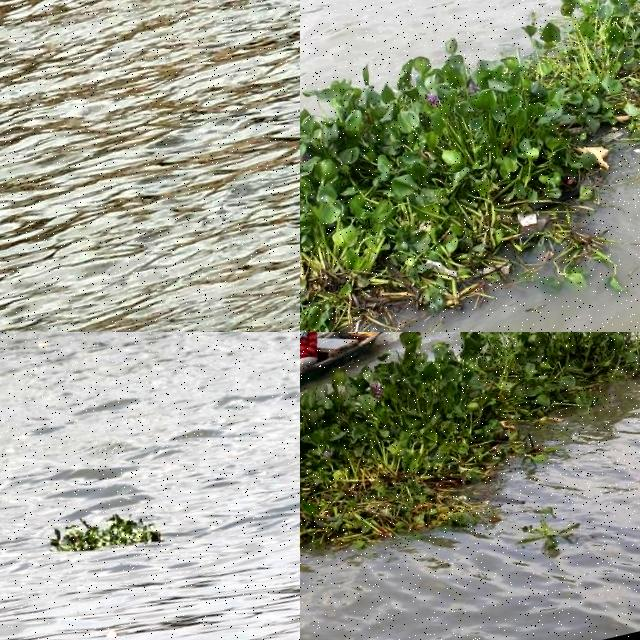water-hyacinth: (301, 1, 640, 333), (301, 333, 640, 552), (48, 499, 164, 571), (509, 501, 589, 563)
